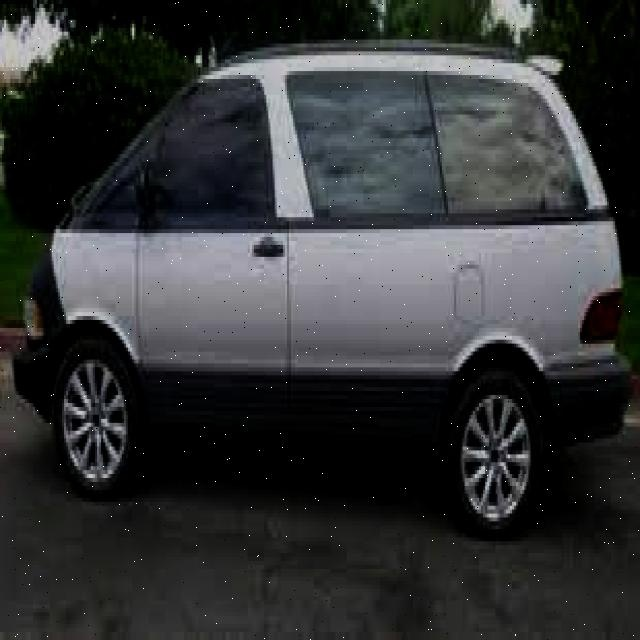Van: (17, 48, 628, 546)
